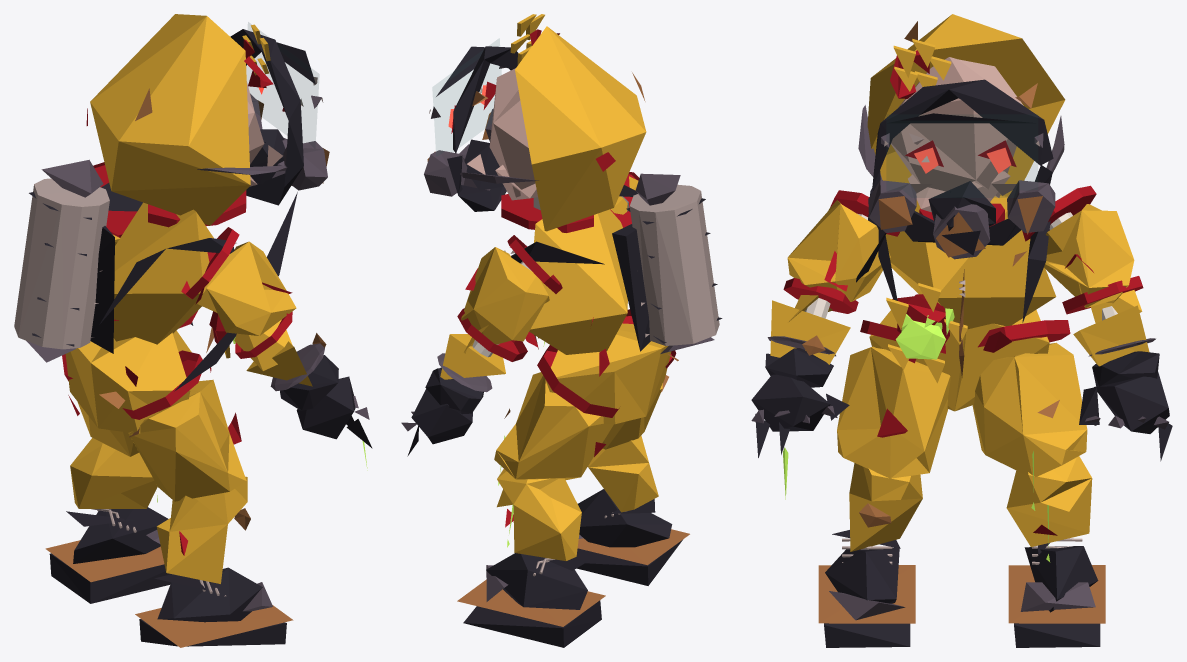
Rendered from inf.hazmat.lod2.glb.
3 renders of one model, left to right at view 1: azimuth 30°, elevation 25°; view 2: azimuth 150°, elevation 25°; view 3: azimuth 270°, elevation 25°, orthographic. The views are drawn at different scales.
Parts seen in each view (by area): view 1: head, torso, legR, footR, footL, hip, shinR, armR, foreArmR, shinL, handR, stump_legR (+5 smaller); view 2: head, torso, footL, legL, footR, hip, shinL, armL, foreArmL, shinR, handL, stump_head (+4 smaller); view 3: head, torso, legL, legR, footR, footL, armL, armR, shinL, foreArmR, foreArmL, shinR (+8 smaller).
Boxes of the visible parts, x1,y1,x2,y2 form: head: (86, 14, 329, 225); torso: (14, 159, 297, 391); legR: (128, 379, 246, 501); footR: (135, 567, 293, 647); footL: (45, 507, 171, 603); hip: (65, 319, 211, 433); shinR: (156, 476, 250, 583); armR: (195, 241, 296, 335); foreArmR: (234, 319, 338, 410); shinL: (70, 438, 157, 508); handR: (296, 376, 372, 470); stump_legR: (122, 350, 202, 419); head: (424, 14, 646, 231); torso: (504, 173, 722, 354); footL: (457, 553, 605, 647); legL: (494, 372, 613, 485); footR: (570, 489, 689, 585); hip: (545, 317, 678, 424); shinL: (497, 469, 581, 560); armL: (461, 247, 549, 344); foreArmL: (425, 325, 505, 414); shinR: (588, 436, 658, 512); handL: (401, 388, 472, 456); stump_head: (501, 194, 593, 232); head: (858, 14, 1065, 259); torso: (856, 171, 1056, 383); legL: (972, 342, 1087, 510); legR: (837, 346, 950, 478); footR: (818, 530, 915, 647); footL: (1008, 538, 1105, 647); armL: (1044, 204, 1134, 308); armR: (787, 200, 890, 301); shinL: (1006, 456, 1092, 562); foreArmR: (765, 295, 850, 387); foreArmL: (1073, 290, 1159, 386); shinR: (849, 463, 922, 551).
Size of the model in its own units: 0.8741 by 1.78 by 1.09.
